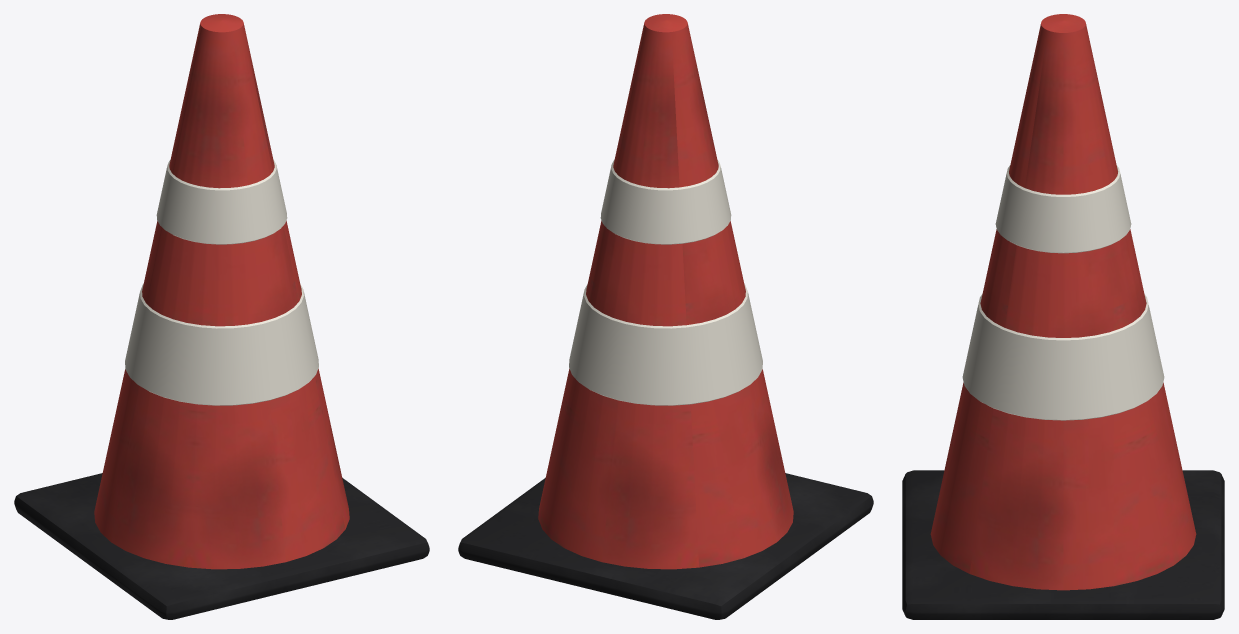
The model's file is traffic_cone.glb.
3 renders of one model, left to right at view 1: azimuth 30°, elevation 25°; view 2: azimuth 150°, elevation 25°; view 3: azimuth 270°, elevation 25°, orthographic. The views are drawn at different scales.
Visible parts, largest first — view 1: TrafficConeMesh; view 2: TrafficConeMesh; view 3: TrafficConeMesh.
Part boxes in pixels (<box>): TrafficConeMesh: <box>14,14,429,619</box>; TrafficConeMesh: <box>458,14,873,619</box>; TrafficConeMesh: <box>902,14,1224,619</box>.
Size of the model in its own units: 0.4 by 0.734 by 0.4.
3 materials, 2 textured.
